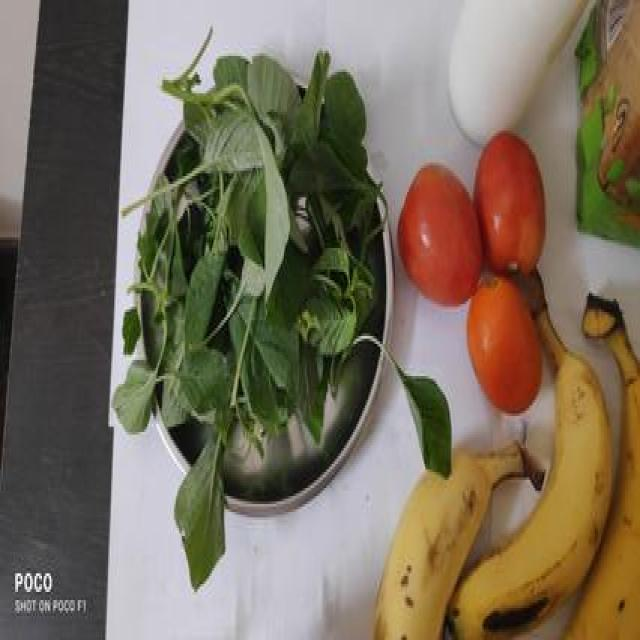Fresh_tomato: (124, 55, 385, 510), (401, 149, 554, 400)
